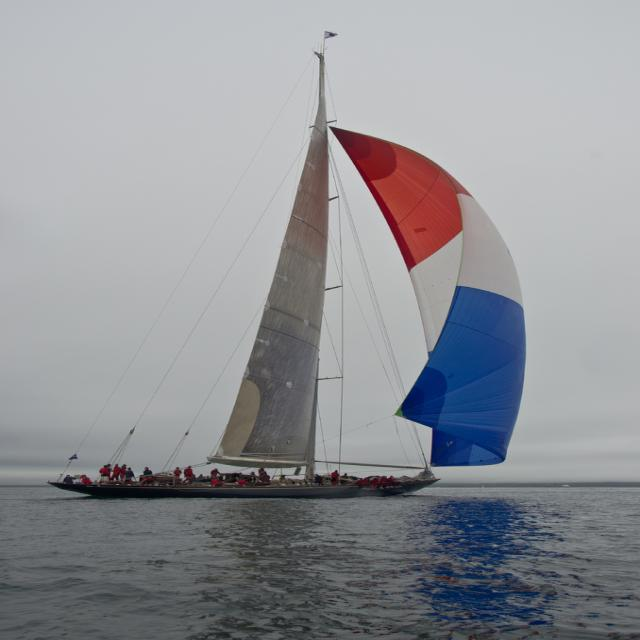Boat: (31, 54, 530, 514)
